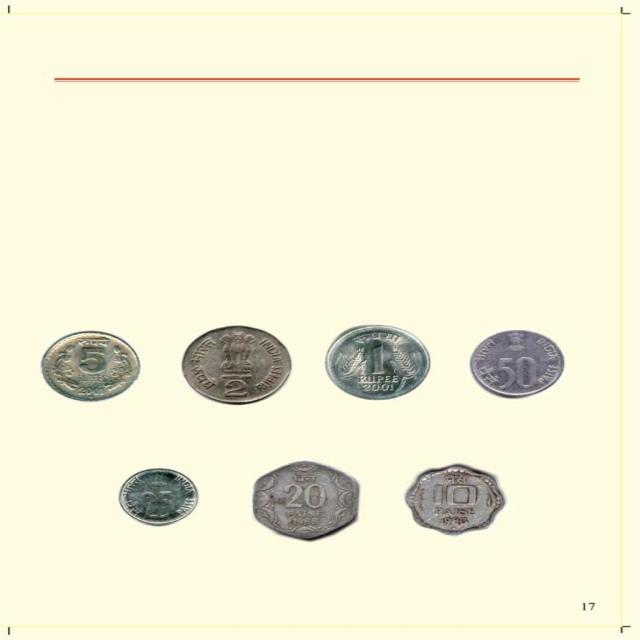Coin: (243, 457, 358, 543), (178, 323, 289, 405), (401, 463, 511, 533), (327, 327, 429, 399), (40, 326, 137, 400), (467, 329, 566, 393), (111, 462, 198, 523)
